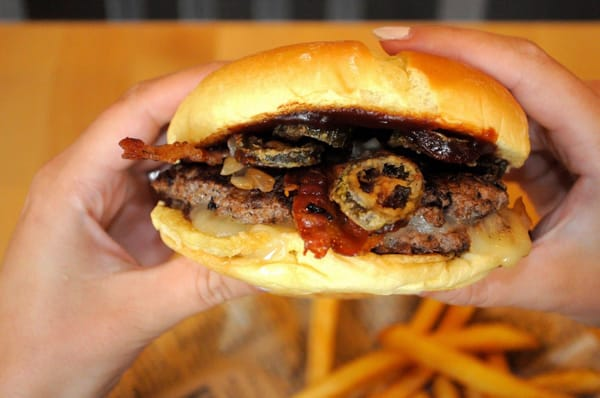soup: (122, 40, 573, 299)
